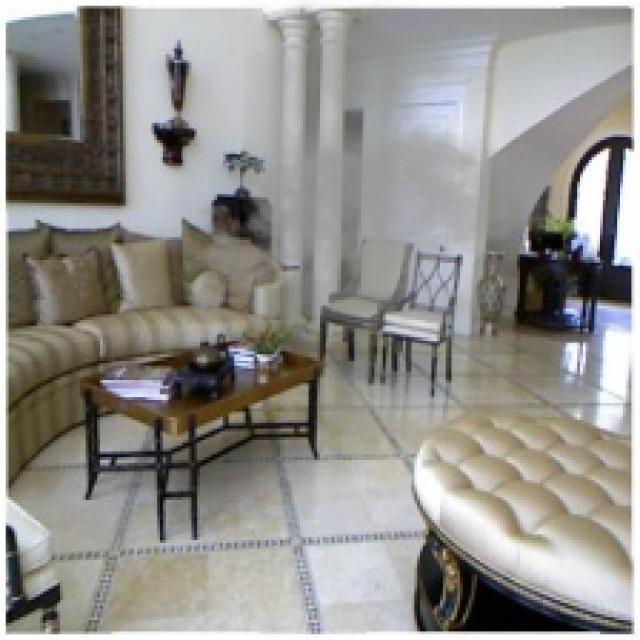Smoke: (171, 0, 578, 372)
